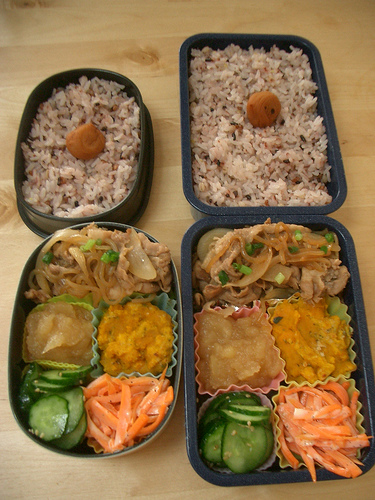cucumber: (192, 388, 277, 475), (23, 391, 71, 446), (37, 370, 86, 385)
